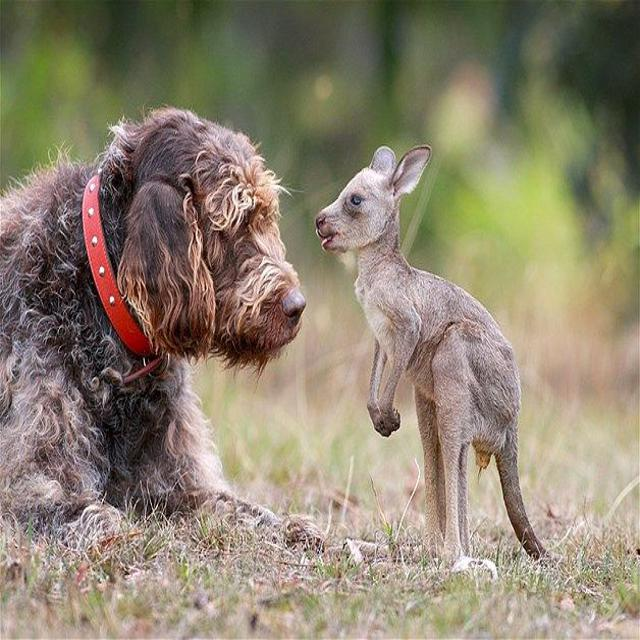kangaroo: (309, 139, 512, 564)
